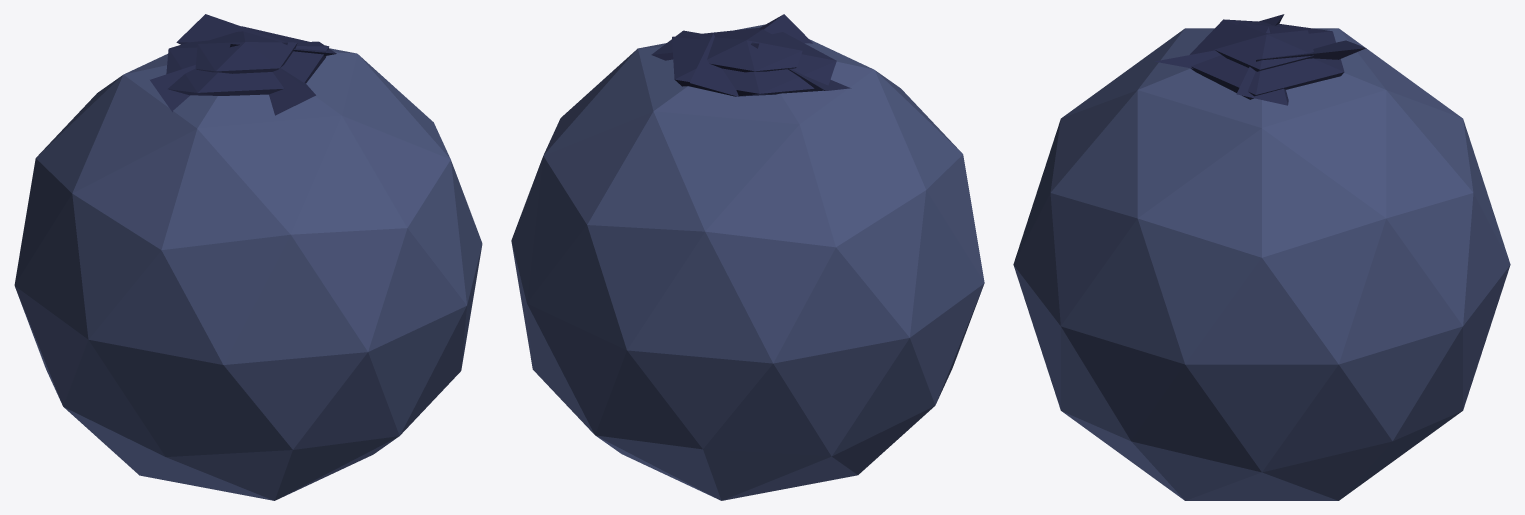
Rendered from besje.fbx.
3 views of the same model, side by side, from view 1: azimuth 30°, elevation 25°; view 2: azimuth 150°, elevation 25°; view 3: azimuth 270°, elevation 25° (orthographic). The views are drawn at different scales.
Visible parts, largest first — view 1: Icosphere, Icosphere.002, Icosphere.001, Cube.003, Cube.002, Cube; view 2: Icosphere, Icosphere.002, Icosphere.001, Cube.003, Cube.002; view 3: Icosphere, Icosphere.002, Icosphere.001, Cube.003, Cube.001, Cube.002.
Part boxes in pixels (x1,y1,x2,y2): Icosphere: (14, 48, 482, 500); Icosphere.002: (166, 26, 329, 95); Icosphere.001: (195, 31, 297, 73); Cube.003: (176, 14, 287, 44); Cube.002: (269, 68, 315, 115); Cube: (150, 65, 195, 112); Icosphere: (511, 24, 984, 500); Icosphere.002: (672, 27, 836, 96); Icosphere.001: (700, 29, 802, 72); Cube.003: (690, 33, 738, 96); Cube.002: (759, 14, 812, 43); Icosphere: (1013, 28, 1510, 500); Icosphere.002: (1190, 19, 1344, 99); Icosphere.001: (1214, 23, 1313, 71); Cube.003: (1256, 40, 1366, 61); Cube.001: (1236, 27, 1288, 105); Cube.002: (1155, 50, 1220, 68).
Size of the model in its own units: 190 by 202 by 200.
